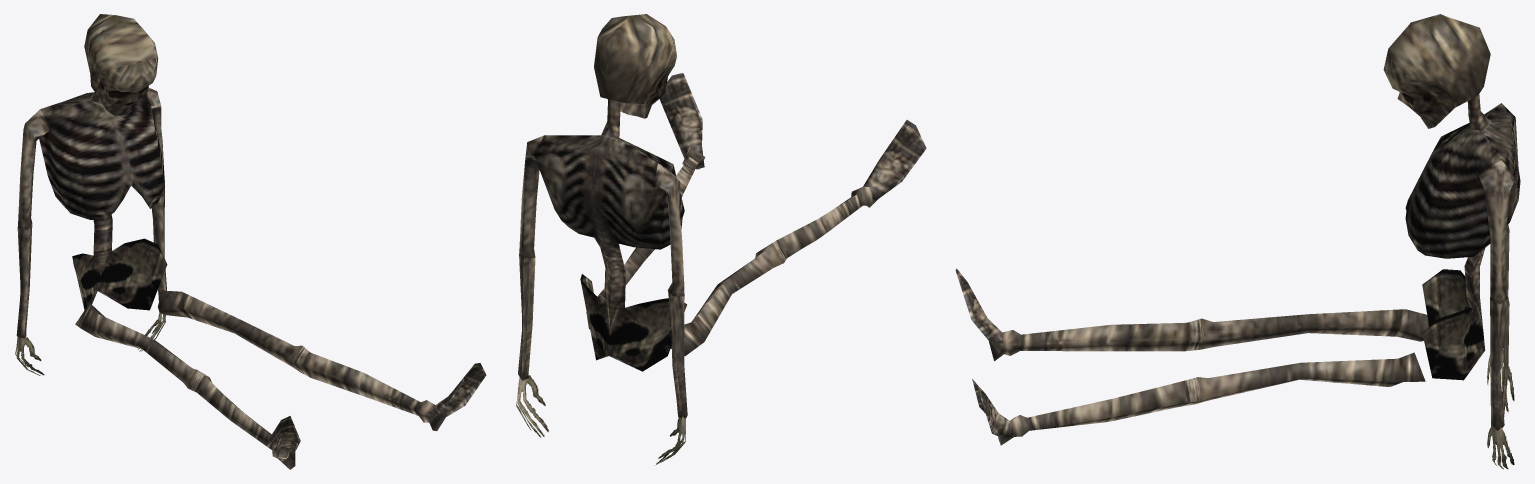
File: bon_one_as_die_a_fbx.FBX
3 views of the same model, side by side, from view 1: azimuth 30°, elevation 25°; view 2: azimuth 150°, elevation 25°; view 3: azimuth 270°, elevation 25° (orthographic). The views are drawn at different scales.
Visible parts, largest first — view 1: !cc_ag_hegol4_02/01; view 2: !cc_ag_hegol4_02/01; view 3: !cc_ag_hegol4_02/01.
Boxes of the visible parts, bbox=[...] form: !cc_ag_hegol4_02/01: bbox=[15, 14, 486, 469]; !cc_ag_hegol4_02/01: bbox=[516, 14, 926, 465]; !cc_ag_hegol4_02/01: bbox=[955, 14, 1520, 469].
Bounding box in the file's own units: 0.8768 × 1.24 × 1.49.
